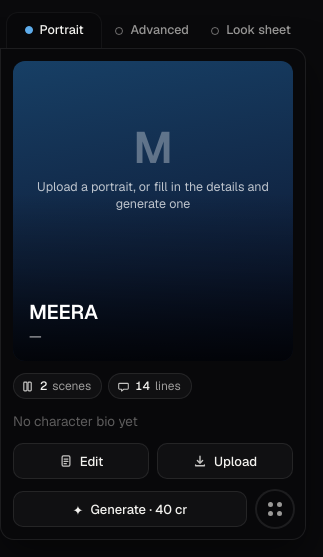
Test case: the card`s Generate › leaves the look sheet`s buttons disabled, saying the sheet is not built - not that the worker is missing
Click the tab "Look sheet". click: coordinates (251, 30)
box: [202, 12, 300, 48]
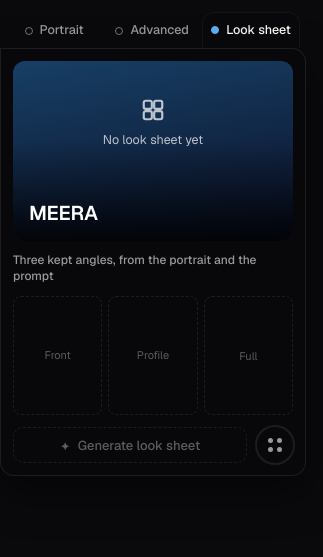
expect the button "Generate look sheet" is disabled: met, box [13, 427, 247, 463]
